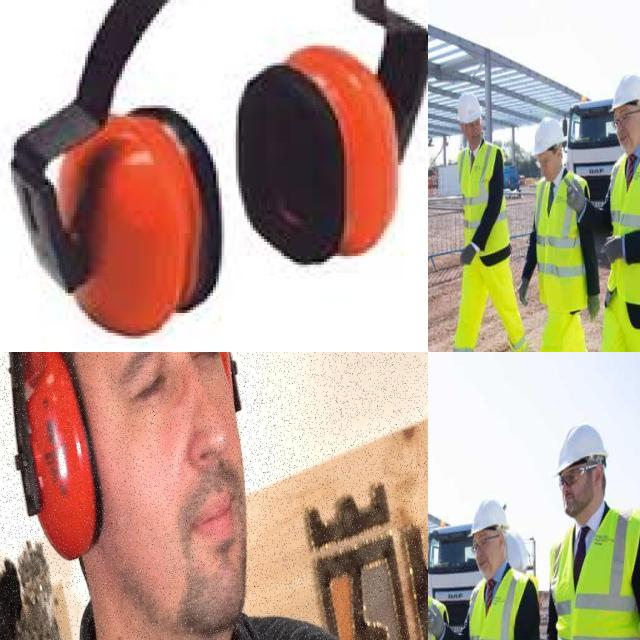Ear-protection: (25, 0, 428, 322), (7, 352, 117, 602)
face_nomask: (558, 454, 594, 522), (472, 529, 502, 585), (613, 104, 640, 160), (462, 119, 487, 152), (540, 144, 558, 182)
glasses: (552, 462, 590, 491), (610, 111, 632, 135), (470, 536, 490, 560)
hand_glove: (600, 233, 632, 266), (566, 181, 590, 224), (515, 272, 534, 316), (428, 606, 449, 640), (459, 245, 482, 268), (588, 292, 602, 322)
head_helmet: (554, 423, 608, 476), (469, 498, 510, 536), (532, 117, 565, 156), (610, 73, 640, 110), (455, 91, 482, 124)
person: (0, 352, 353, 640), (430, 89, 535, 352), (507, 118, 604, 352), (536, 430, 640, 640), (444, 509, 559, 640), (585, 84, 640, 352)
vest: (550, 510, 640, 640), (534, 174, 594, 310), (456, 144, 512, 259), (607, 143, 640, 310), (466, 568, 533, 640)
